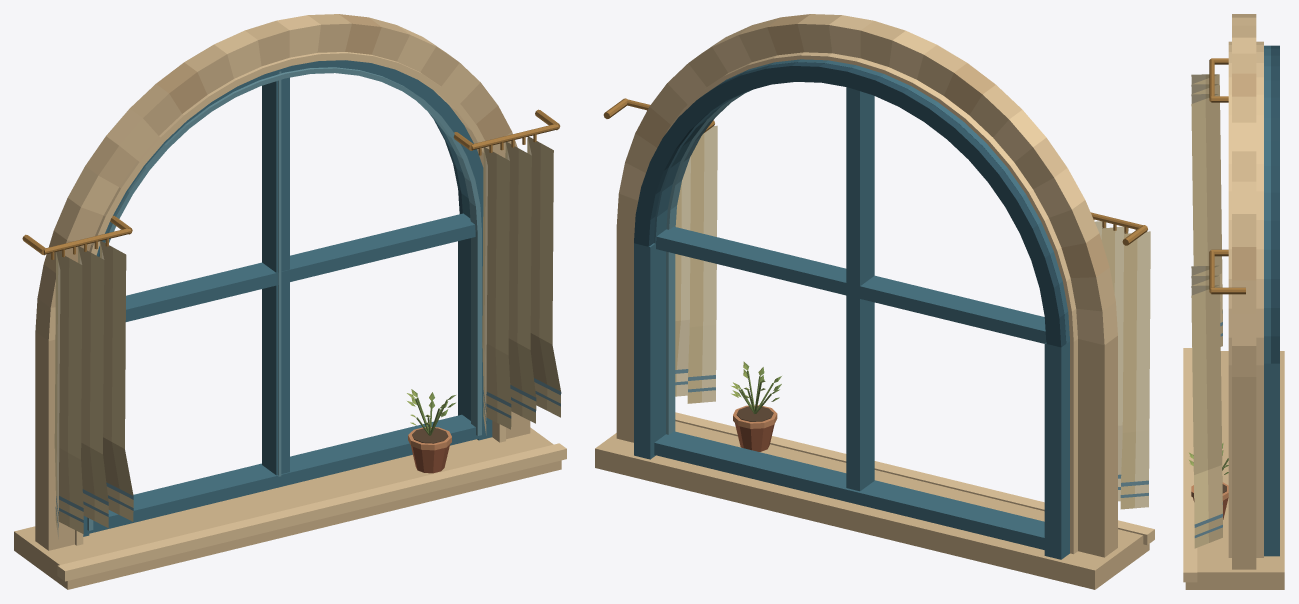
Rendered from window-arch.glb.
3 renders of one model, left to right at view 1: azimuth 30°, elevation 25°; view 2: azimuth 150°, elevation 25°; view 3: azimuth 270°, elevation 25°, orthographic. The views are drawn at different scales.
Visible parts, largest first — view 1: Blue-striped linen side panels, Dressed limestone arch, Cut limestone sill, Blue sash mullion, Cut limestone sill nosing, Blue spring line transom, Blue sash foot, Blue sash inner bead, Dressed limestone jambs, Limestone rolled inner edge, Blue sash arch, Blue sash jambs (+4 smaller); view 2: Dressed limestone arch, Cut limestone sill, Blue-striped linen side panels, Blue sash depth, Dressed limestone jambs, Blue sash jambs, Blue sash mullion, Blue sash foot, Blue spring line transom, Limestone rolled inner edge, Blue sash arch, Cut limestone sill nosing (+2 smaller); view 3: Blue-striped linen side panels, Dressed limestone arch, Limestone rolled inner edge, Cut limestone sill, Dressed limestone jambs, Blue sash jambs, Blue sash depth, Cut limestone sill nosing, Blue sash arch, Brass curtain brackets, Brass curtain rails, Terracotta thyme pot.
Part boxes in pixels (x1,y1,x2,y2): Blue-striped linen side panels: (54,136,561,538); Dressed limestone arch: (35,14,517,340); Cut limestone sill: (14,427,561,589); Blue sash mullion: (262,77,289,475); Cut limestone sill nosing: (57,443,566,581); Blue spring line transom: (125,213,475,321); Blue sash foot: (89,414,478,533); Blue sash inner bead: (87,67,481,530); Dressed limestone jambs: (35,331,530,550); Limestone rolled inner edge: (75,52,505,545); Blue sash arch: (96,60,483,256); Blue sash jambs: (83,230,492,536); Dressed limestone arch: (616,14,1117,345); Cut limestone sill: (595,421,1149,589); Blue-striped linen side panels: (675,125,1150,509); Blue sash depth: (634,62,1066,347); Dressed limestone jambs: (616,226,1117,557); Blue sash jambs: (634,243,1069,559); Blue sash mullion: (846,87,874,491); Blue sash foot: (654,431,1069,554); Blue spring line transom: (656,226,1046,343); Limestone rolled inner edge: (666,52,1077,554); Blue sash arch: (653,59,1069,343); Cut limestone sill nosing: (675,412,1154,545); Blue-striped linen side panels: (1191,74,1222,548); Dressed limestone arch: (1232,14,1256,376); Limestone rolled inner edge: (1228,41,1263,557); Cut limestone sill: (1185,351,1284,589); Dressed limestone jambs: (1232,377,1256,569); Blue sash jambs: (1264,363,1279,556); Blue sash depth: (1271,45,1279,363); Cut limestone sill nosing: (1183,348,1197,582); Blue sash arch: (1264,45,1270,363); Brass curtain brackets: (1211,58,1245,294); Brass curtain rails: (1209,59,1214,293); Terracotta thyme pot: (1191,482,1228,519).
Size of the model in its own units: 2.57 by 2.28 by 0.473.
